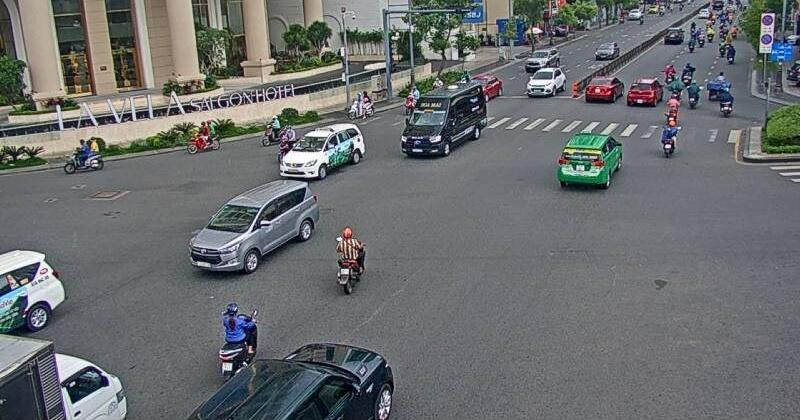xe hoi: (186, 339, 401, 420), (188, 179, 319, 275), (280, 122, 365, 178), (555, 131, 623, 190), (583, 76, 623, 104), (626, 75, 663, 105)
xe may: (216, 301, 257, 375), (334, 223, 367, 294), (64, 137, 103, 173), (660, 119, 681, 158), (347, 89, 374, 119), (261, 114, 286, 146)
xe tai: (400, 82, 488, 159)
